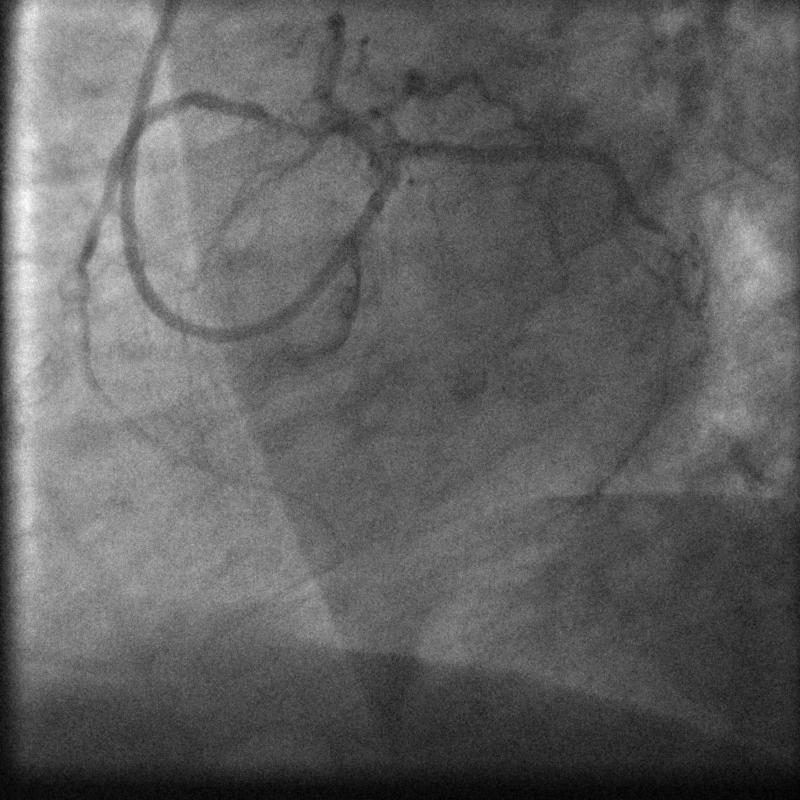Stenosis: (261, 95, 315, 144)
